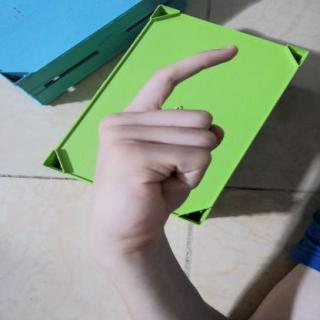RAA: (75, 34, 247, 267)
